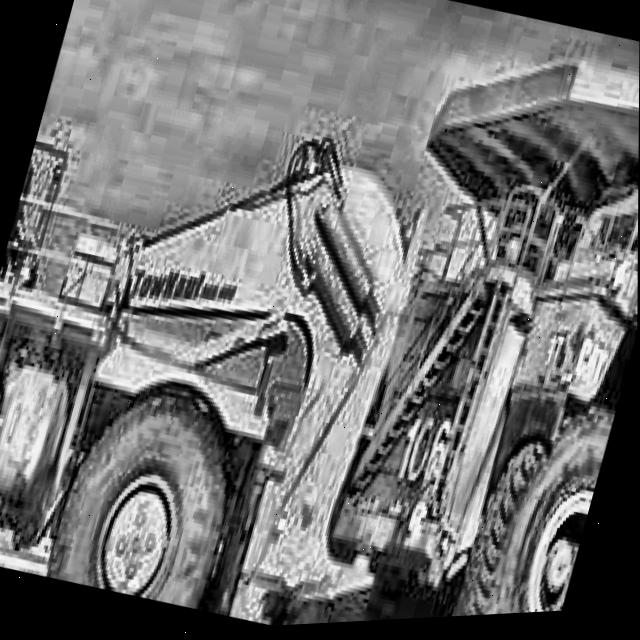dump_truck: (283, 0, 640, 628)
